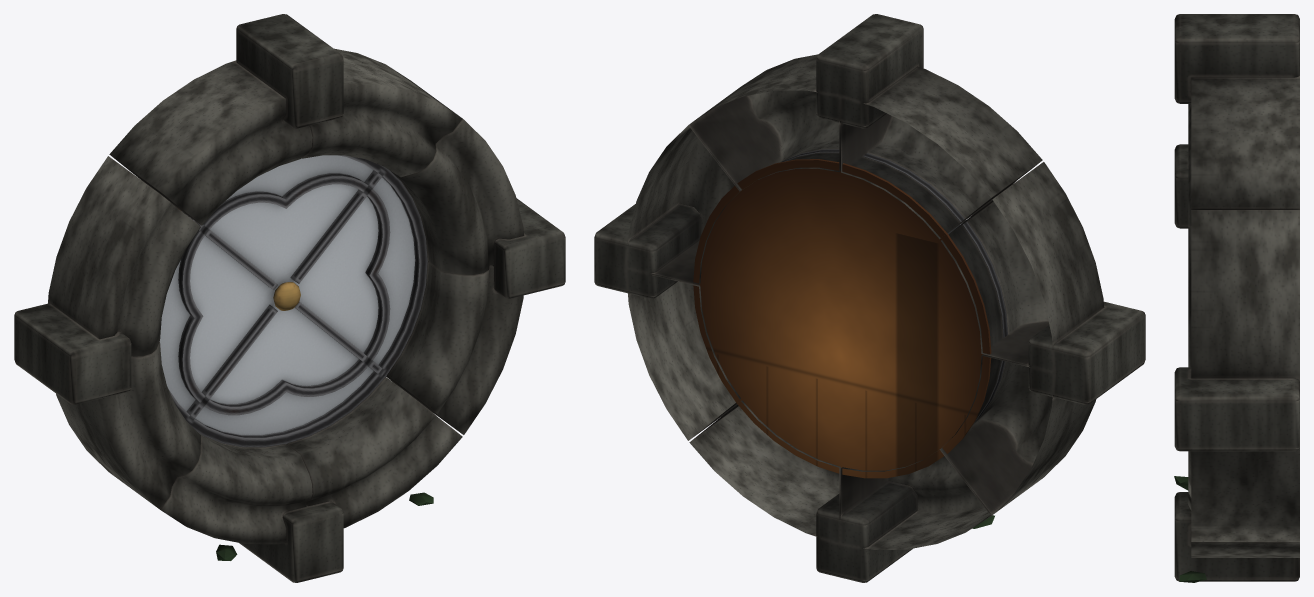
Rendered from Oculus.fbx.
3 views of the same model, side by side, from view 1: azimuth 30°, elevation 25°; view 2: azimuth 150°, elevation 25°; view 3: azimuth 270°, elevation 25° (orthographic). The views are drawn at different scales.
Visible parts, largest first — view 1: Oculus_Main, Oculus_Glass; view 2: Oculus_Main, Oculus_Room; view 3: Oculus_Main.
Boxes of the visible parts, x1,y1,x2,y2 form: Oculus_Main: (14,14,565,582); Oculus_Glass: (159,155,415,435); Oculus_Main: (594,14,1145,582); Oculus_Room: (693,159,991,478); Oculus_Main: (1174,14,1299,582).
Size of the model in its own units: 404 by 404 by 84.52.
